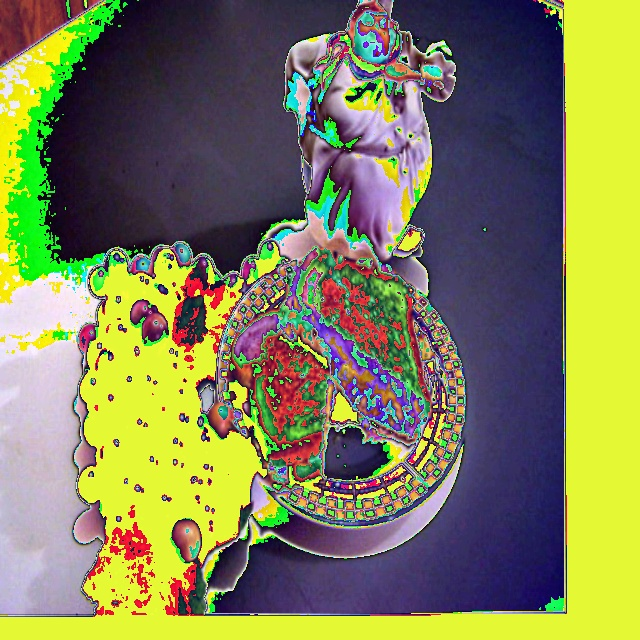background: (77, 237, 432, 614)
